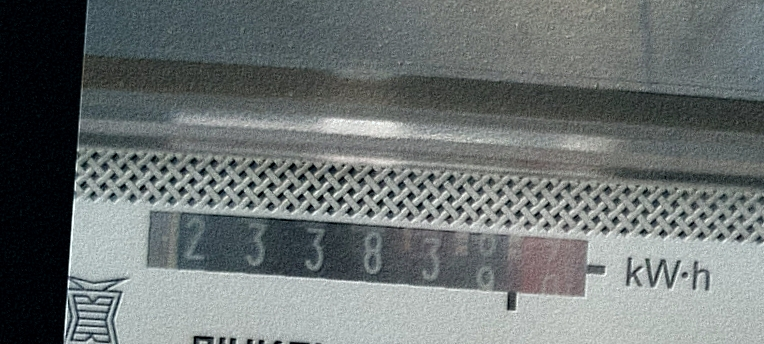0: (540, 270, 563, 298)
2: (183, 215, 210, 263)
3: (240, 218, 272, 269), (298, 223, 330, 274), (418, 234, 445, 282)
8: (358, 229, 388, 277), (475, 231, 500, 259)
9: (541, 234, 565, 265), (474, 262, 497, 293)
screen: (133, 198, 611, 321)
